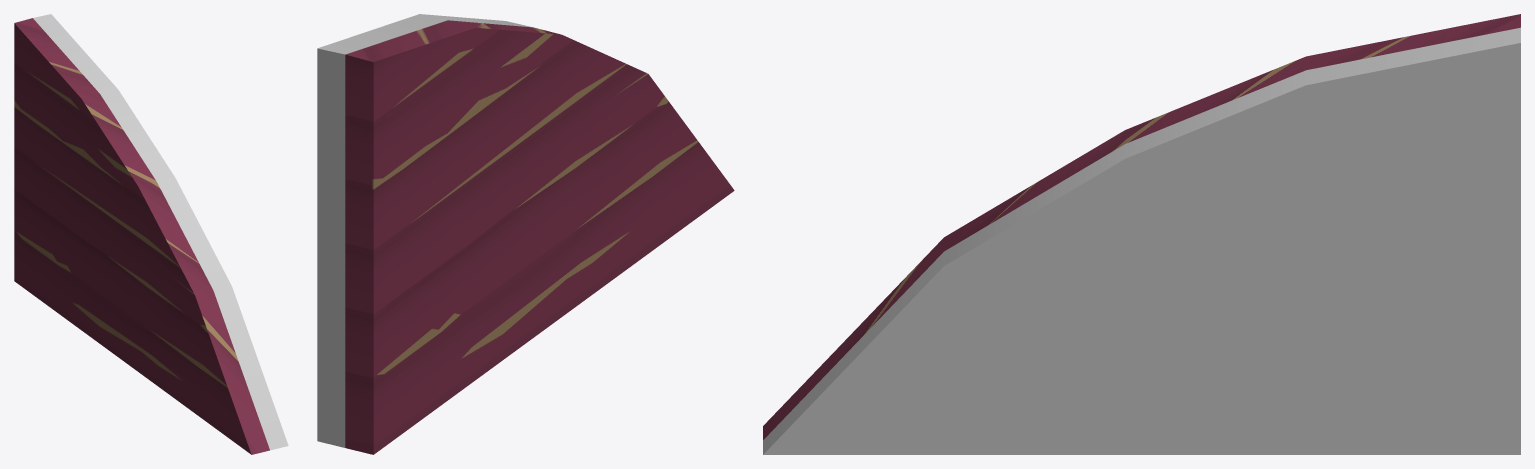
File: SM_Bld_Roof_M_Convex_Wall_01.fbx
3 views of the same model, side by side, from view 1: azimuth 30°, elevation 25°; view 2: azimuth 150°, elevation 25°; view 3: azimuth 270°, elevation 25° (orthographic). The views are drawn at different scales.
Parts seen in each view (by area): view 1: SM_Bld_Roof_M_Convex_Wall_01; view 2: SM_Bld_Roof_M_Convex_Wall_01; view 3: SM_Bld_Roof_M_Convex_Wall_01.
Boxes of the visible parts, x1=… form: SM_Bld_Roof_M_Convex_Wall_01: x1=14, y1=14, x2=288, y2=454; SM_Bld_Roof_M_Convex_Wall_01: x1=317, y1=14, x2=734, y2=454; SM_Bld_Roof_M_Convex_Wall_01: x1=763, y1=14, x2=1520, y2=454.
Size of the model in its own units: 22.5 by 150 by 250.
